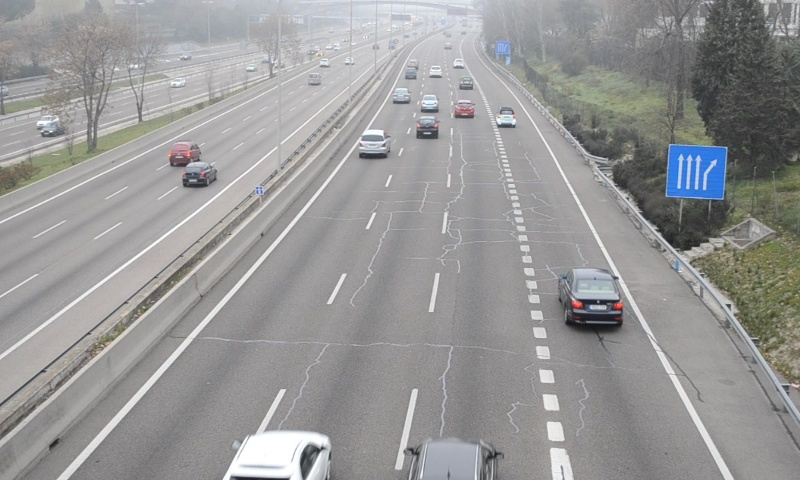car: (220, 432, 332, 480), (403, 439, 506, 480), (556, 268, 626, 328), (358, 128, 391, 156), (415, 116, 440, 140), (495, 106, 517, 128), (454, 99, 475, 120), (390, 87, 411, 104), (420, 94, 438, 112), (458, 76, 474, 90)
